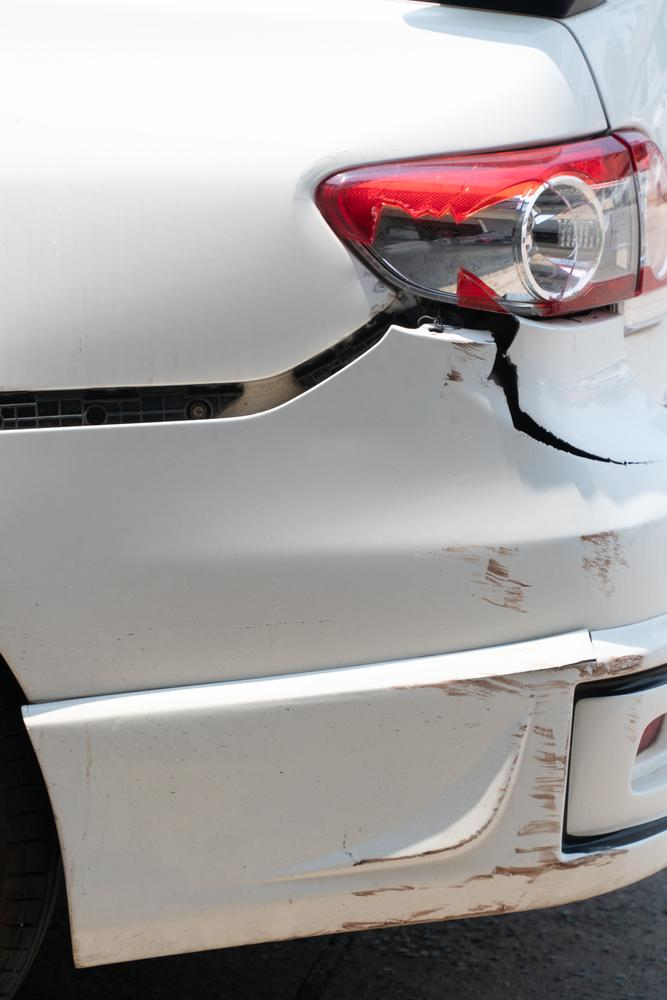crack: (487, 320, 664, 468)
lamp broken: (317, 133, 640, 317)
scratch: (340, 649, 650, 930), (435, 539, 535, 612), (580, 526, 627, 598), (435, 335, 484, 398)
